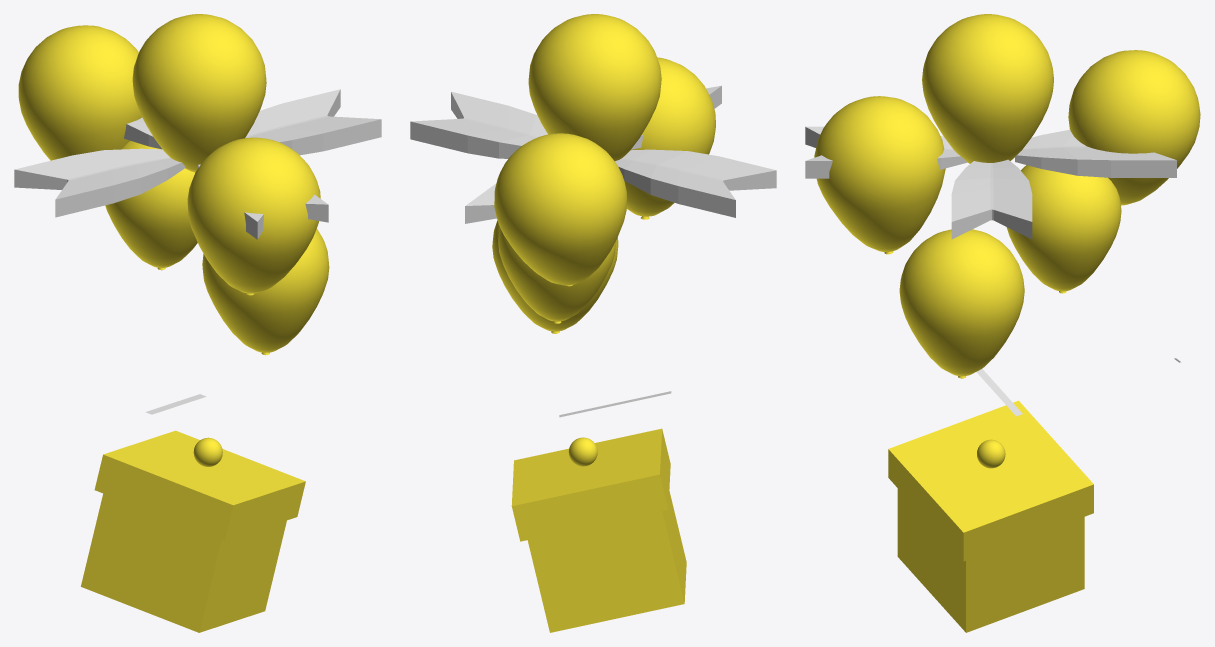
File: gift.glb
3 views of the same model, side by side, from view 1: azimuth 30°, elevation 25°; view 2: azimuth 150°, elevation 25°; view 3: azimuth 270°, elevation 25° (orthographic).
Visible parts, largest first — view 1: box, balloon1, balloon2, balloon3, balloon5, Plane.003, balloon4, Plane.001, Plane, Sphere, Plane.002; view 2: box, balloon3, balloon1, Plane.003, balloon2, Plane.001, balloon4, balloon5, Plane.002, Sphere; view 3: box, balloon1, balloon2, balloon5, balloon3, balloon4, Plane.001, Plane.002, Plane, Sphere.
Part boxes in pixels (<box>): box: <box>81,430,305,632</box>; balloon1: <box>132,14,266,172</box>; balloon2: <box>187,137,320,295</box>; balloon3: <box>18,25,142,160</box>; balloon5: <box>202,228,329,355</box>; Plane.003: <box>14,148,185,217</box>; balloon4: <box>105,141,197,270</box>; Plane.001: <box>245,89,381,155</box>; Plane: <box>197,164,328,239</box>; Sphere: <box>193,437,222,466</box>; Plane.002: <box>124,117,161,149</box>; box: <box>511,428,686,632</box>; balloon3: <box>494,133,626,286</box>; balloon1: <box>528,14,661,160</box>; Plane.003: <box>615,149,776,217</box>; balloon2: <box>624,57,715,219</box>; Plane.001: <box>410,91,547,158</box>; balloon4: <box>498,227,616,323</box>; balloon5: <box>492,220,618,333</box>; Plane.002: <box>465,183,496,223</box>; Sphere: <box>568,437,597,466</box>; box: <box>888,400,1093,632</box>; balloon1: <box>922,14,1053,163</box>; balloon2: <box>814,96,945,254</box>; balloon5: <box>899,229,1024,378</box>; balloon3: <box>1068,50,1200,206</box>; balloon4: <box>1006,165,1121,293</box>; Plane.001: <box>951,159,1032,239</box>; Plane.002: <box>1015,129,1176,177</box>; Plane: <box>805,126,967,178</box>; Sphere: <box>977,439,1005,468</box>.
Size of the model in its own units: 1.09 by 1.89 by 1.15.
